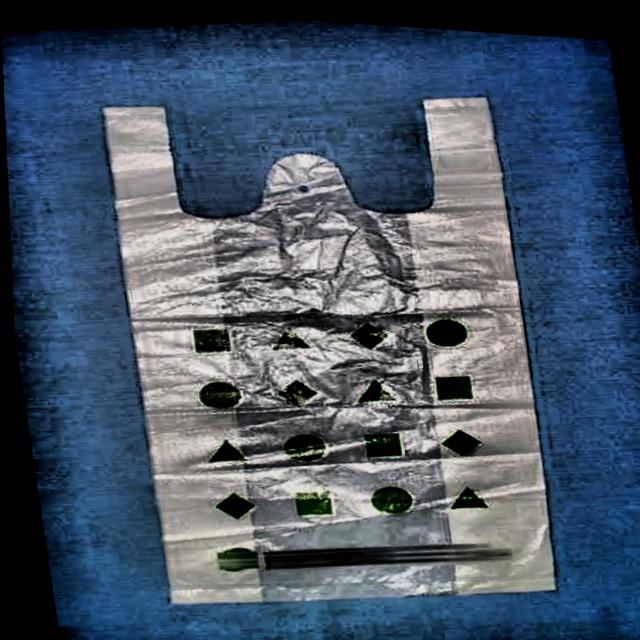Plastic: (74, 48, 585, 640)
